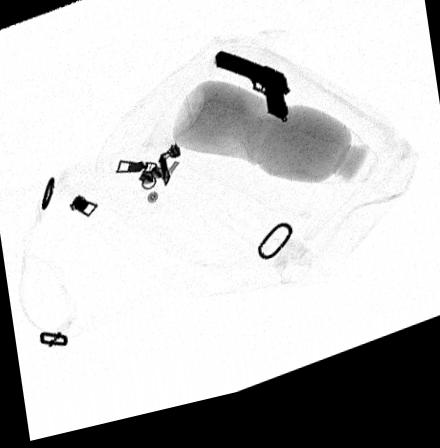Gun: (214, 60, 291, 134)
